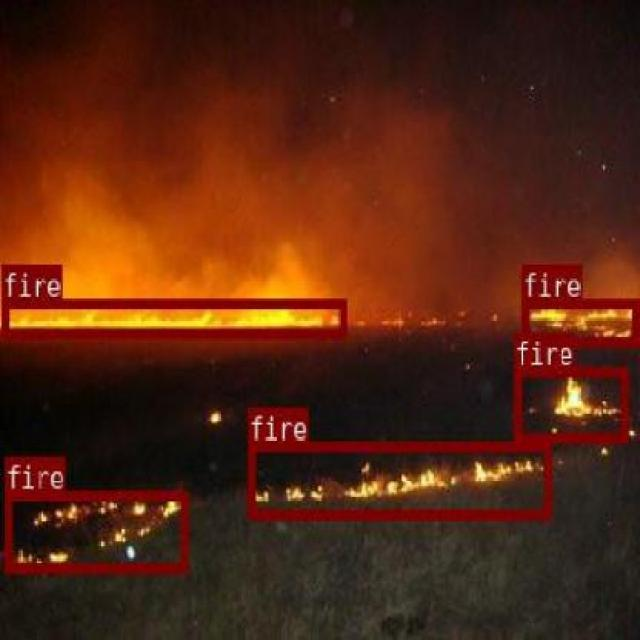Fire: (246, 441, 551, 516), (4, 490, 187, 572), (0, 298, 346, 336), (512, 366, 628, 440), (520, 298, 638, 344)
